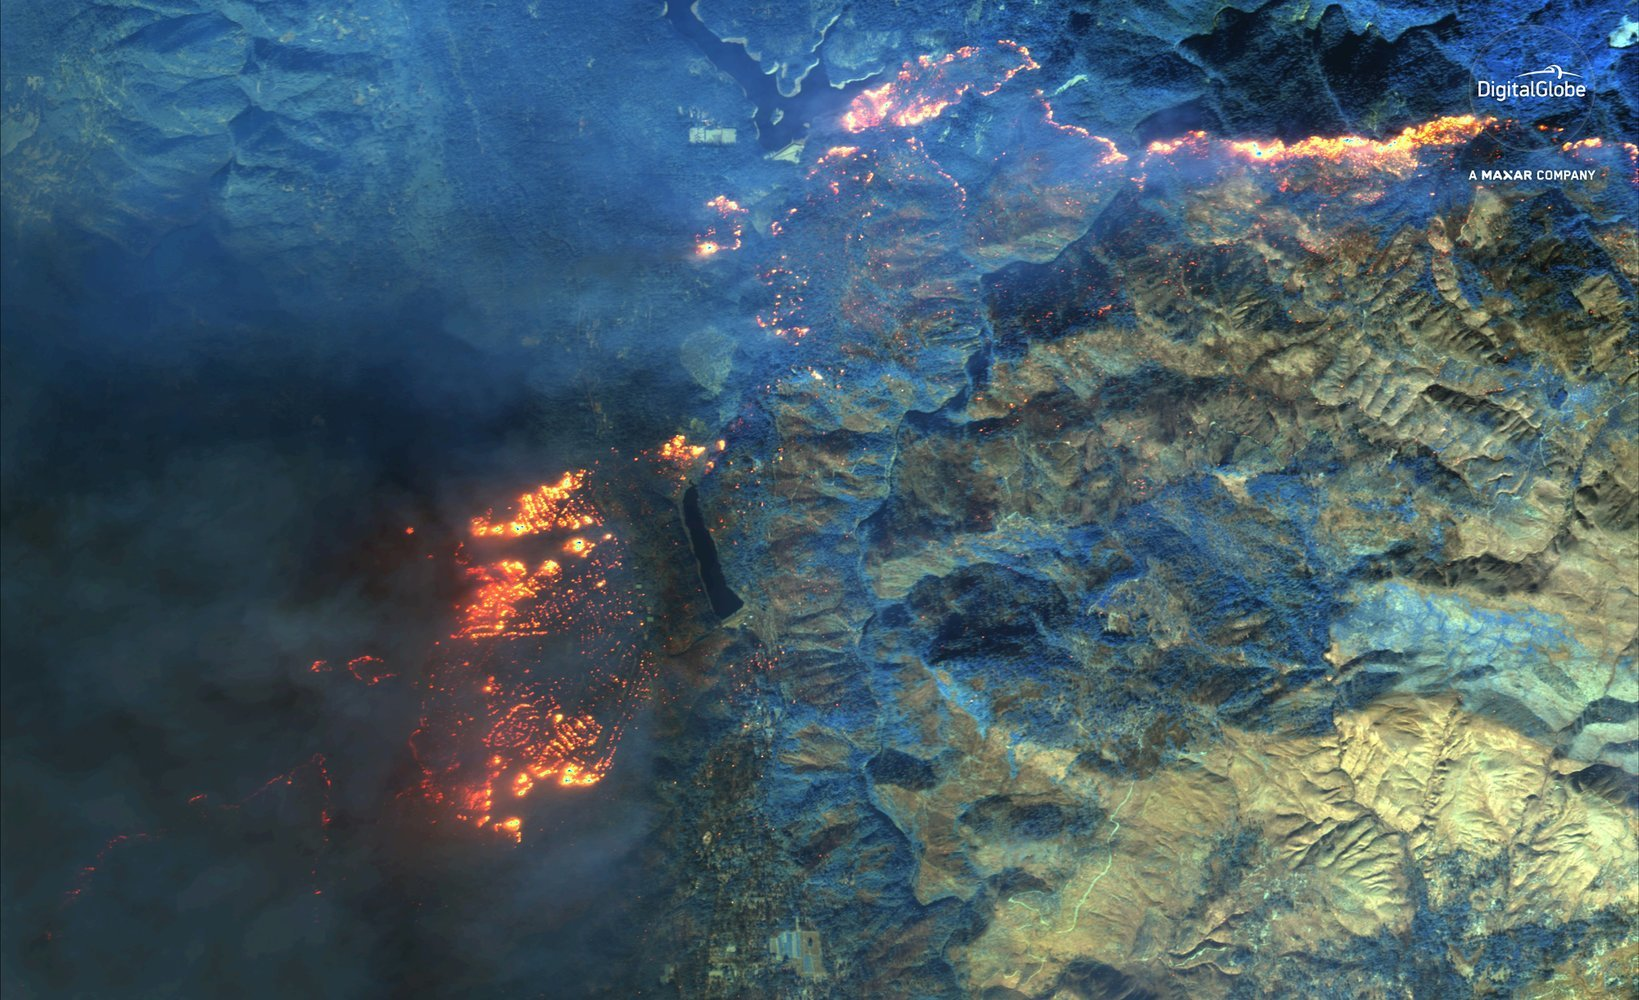fire: (398, 448, 632, 845), (1037, 85, 1493, 185), (805, 36, 1057, 214), (679, 192, 752, 261), (649, 429, 731, 480), (310, 649, 395, 689)
